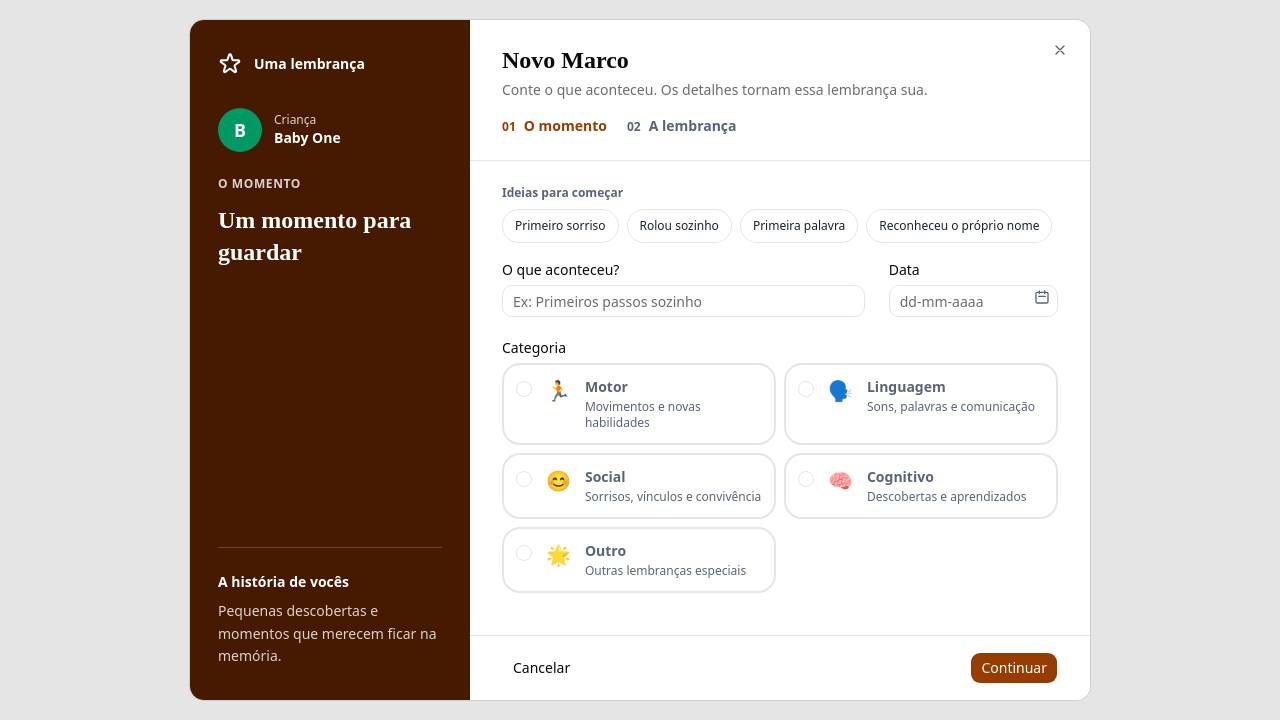
it: AddMilestoneDialog › blocks advancing to the details step without the required fields
This screenshot has width=1280, height=720.
What coordinates should you click on to do the following:
click the button "Continuar"
I would click on:
 (1014, 668)
Its box is [970,652,1058,684].
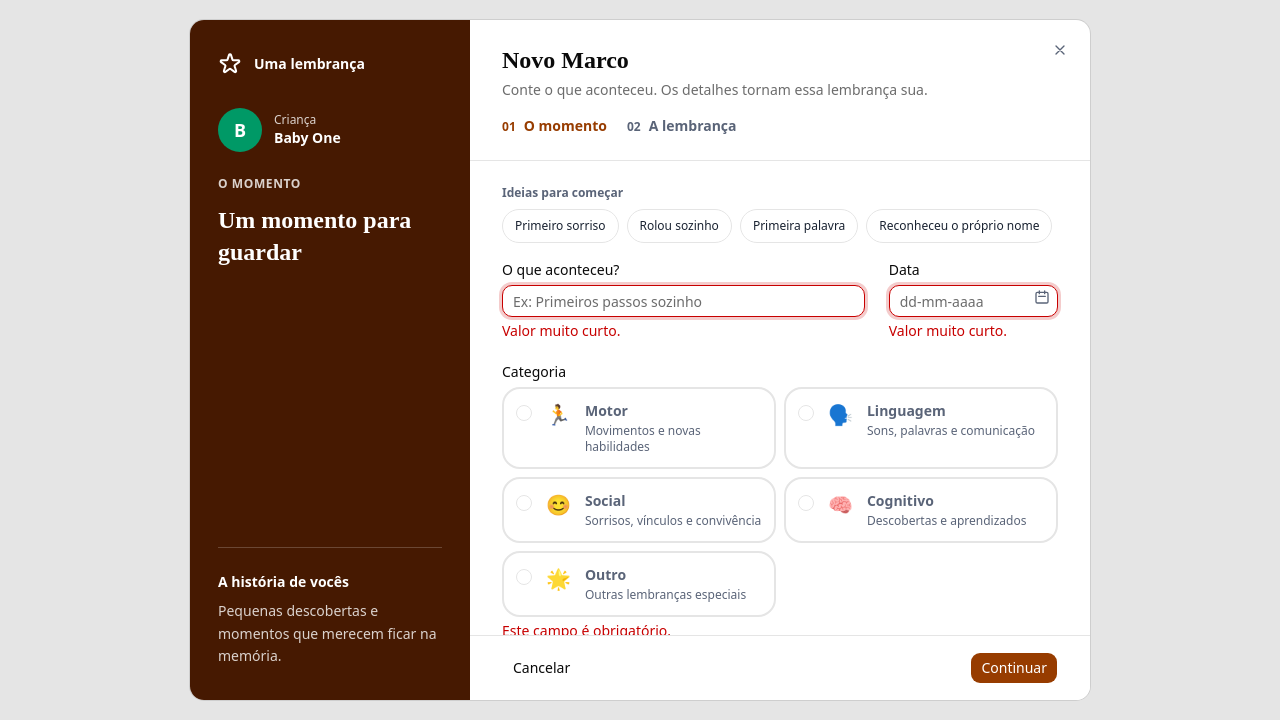
Result: the text "Valor muito curto." below "O que aconteceu?" is shown at [502,321,620,340]
